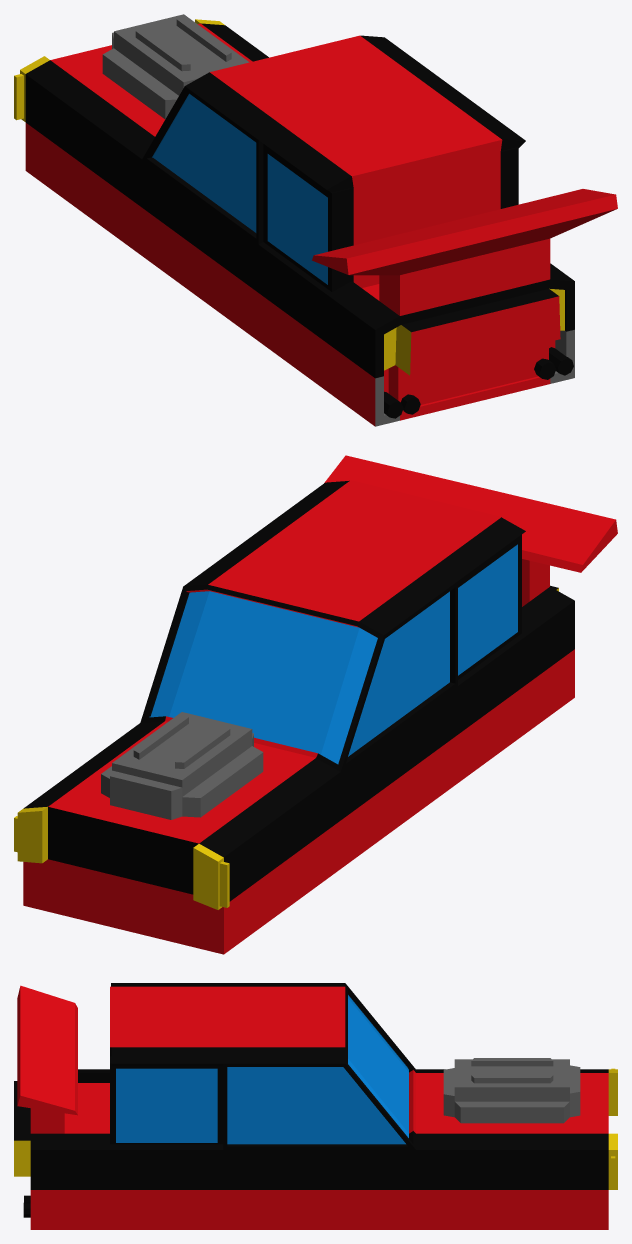
The model's file is august_car_mesh.glb.
3 renders of one model, top to bottom at view 1: azimuth 30°, elevation 25°; view 2: azimuth 150°, elevation 25°; view 3: azimuth 270°, elevation 25°, orthographic. The views are drawn at different scales.
Visible parts, largest first — view 1: car; view 2: car; view 3: car.
Part boxes in pixels (x1=…): car: x1=14, y1=14, x2=617, y2=426; car: x1=14, y1=455, x2=617, y2=954; car: x1=14, y1=983, x2=617, y2=1229.
Size of the model in its own units: 2.7 by 2 by 6.34.
